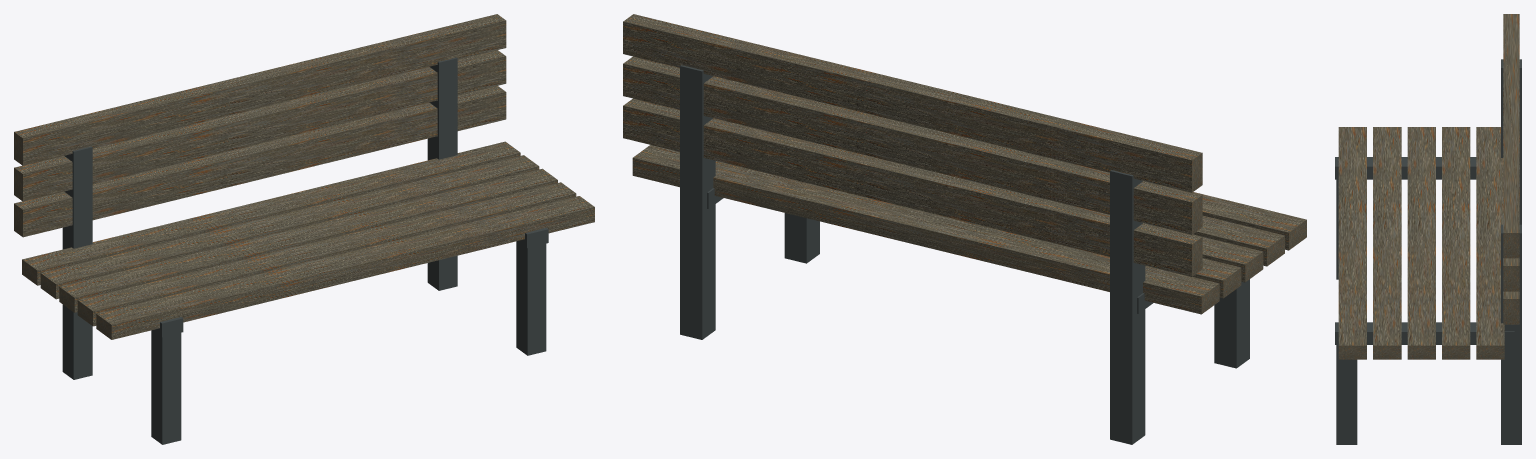
The model's file is garden_bench.glb.
The picture shows the model from 3 angles, left to right: view 1: azimuth 30°, elevation 25°; view 2: azimuth 150°, elevation 25°; view 3: azimuth 270°, elevation 25°; orthographic projection. The views are drawn at different scales.
Bounding box in the file's own units: 1.8 × 0.9 × 0.65.
Materials: 2 (1 with a texture image).
